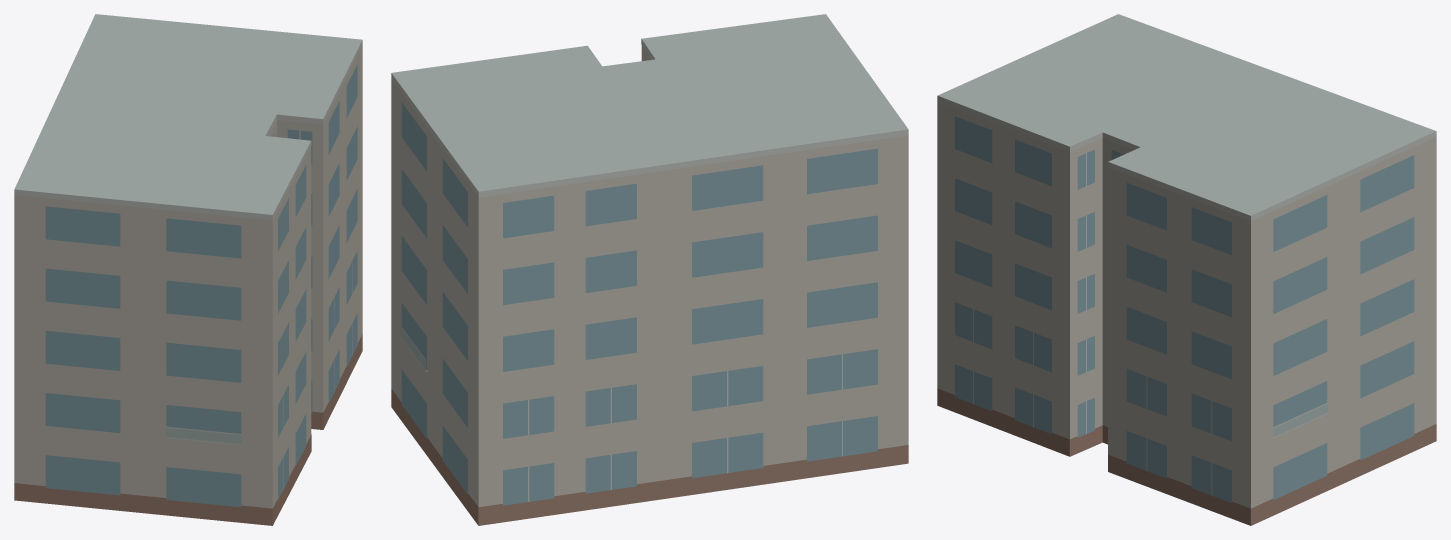
File: survey-upis-32662451.glb
3 renders of one model, left to right at view 1: azimuth 30°, elevation 25°; view 2: azimuth 150°, elevation 25°; view 3: azimuth 270°, elevation 25°, orthographic. The views are drawn at different scales.
Visible parts, largest first — view 1: survey-upis-32662451.tmp; view 2: survey-upis-32662451.tmp; view 3: survey-upis-32662451.tmp.
Boxes of the visible parts, x1,y1,x2,y2 form: survey-upis-32662451.tmp: (14,14,362,525); survey-upis-32662451.tmp: (391,14,908,525); survey-upis-32662451.tmp: (937,14,1436,525).
Size of the model in its own units: 19.55 by 14 by 20.43.
